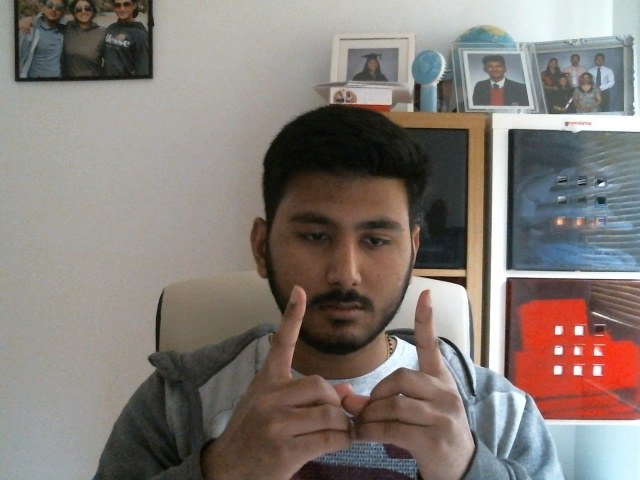meet: (255, 285, 447, 439)
